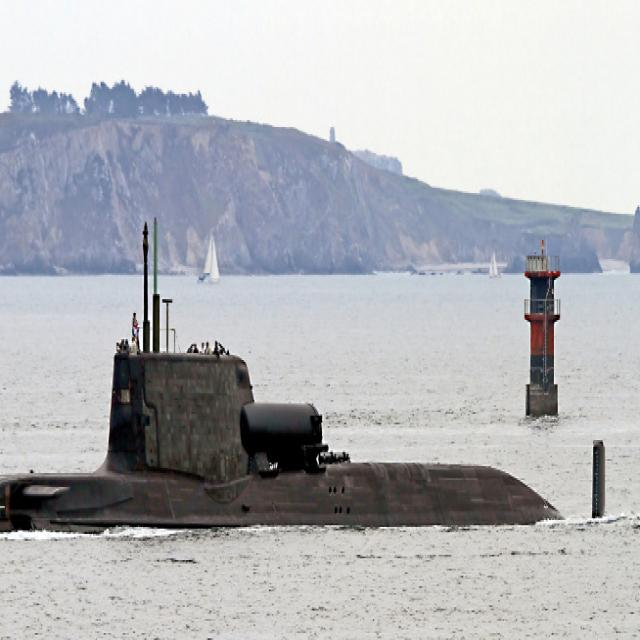submarine: (1, 205, 610, 537)
